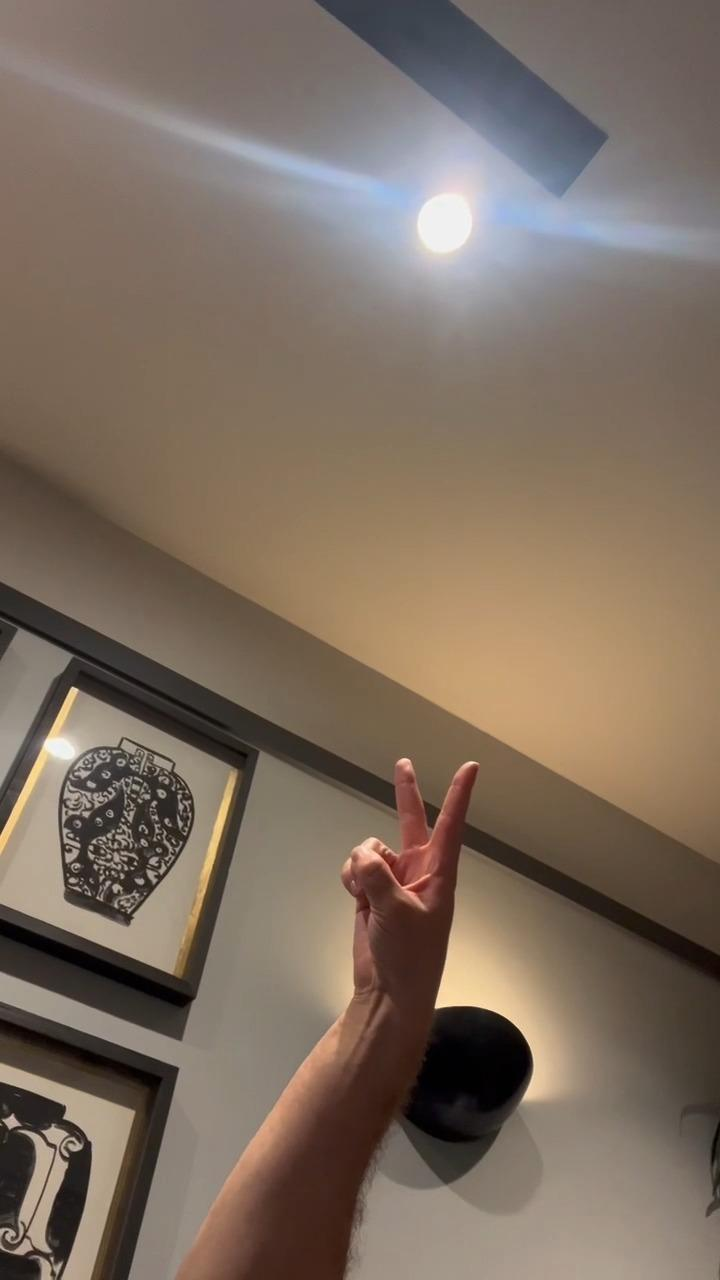Scissors: (340, 749, 480, 1004)
